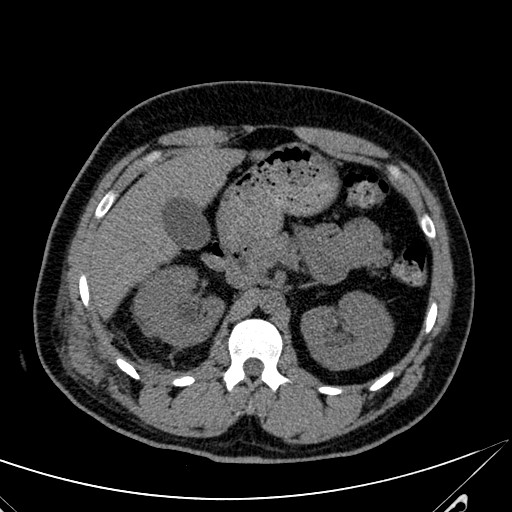vesicula: (160, 195, 214, 253)
